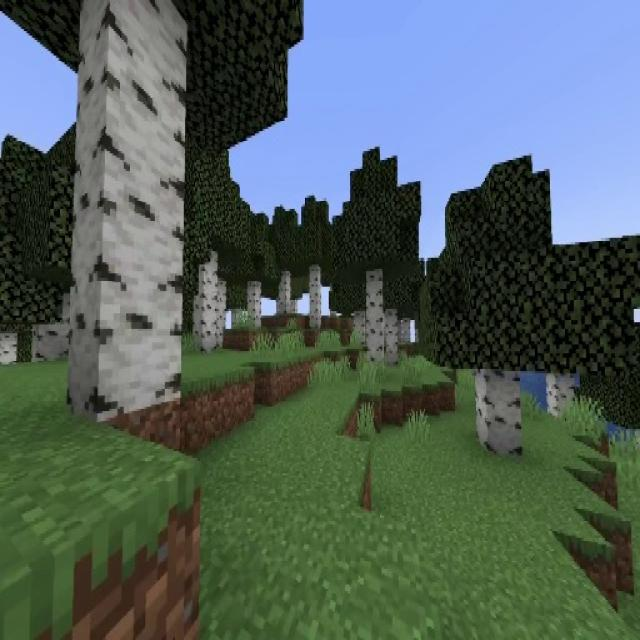birch: (0, 0, 305, 420), (426, 157, 604, 451), (338, 146, 422, 365), (520, 235, 614, 421), (175, 154, 244, 348), (359, 240, 423, 360), (292, 197, 338, 332), (234, 216, 280, 330), (334, 258, 386, 338), (266, 210, 303, 313)
birch_log: (76, 1, 183, 403), (476, 372, 522, 450), (35, 294, 68, 367), (365, 271, 383, 362), (547, 377, 581, 424), (198, 258, 216, 346), (309, 264, 322, 331), (214, 277, 226, 349), (247, 279, 262, 330), (384, 310, 398, 363), (0, 332, 18, 367), (278, 267, 290, 313), (354, 310, 365, 344), (400, 316, 412, 346), (232, 308, 242, 327)
